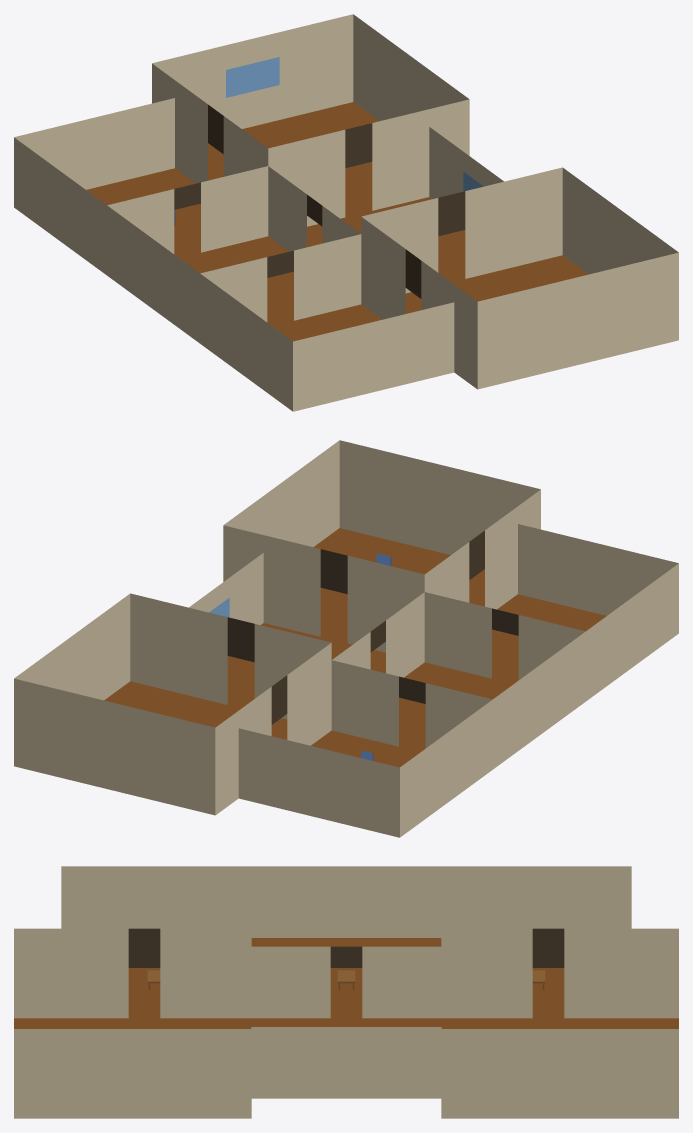
Rendered from level.obj.
The picture shows the model from 3 angles, top to bottom: view 1: azimuth 30°, elevation 25°; view 2: azimuth 150°, elevation 25°; view 3: azimuth 270°, elevation 25°; orthographic projection. The views are drawn at different scales.
Parts seen in each view (by area): view 1: Room5, Room1, Room0, Room4, Room2, Room3; view 2: Room1, Room5, Room0, Room2, Room4, Room3; view 3: Room1, Room5, Room2, Room4, Room0, Room3.
Boxes of the visible parts, x1=… form: Room5: x1=361, y1=167, x2=678, y2=389; Room1: x1=152, y1=14, x2=469, y2=226; Room0: x1=14, y1=98, x2=268, y2=275; Room4: x1=200, y1=234, x2=454, y2=411; Room2: x1=107, y1=166, x2=361, y2=343; Room3: x1=269, y1=127, x2=503, y2=293; Room1: x1=14, y1=593, x2=331, y2=815; Room5: x1=223, y1=440, x2=540, y2=652; Room0: x1=238, y1=660, x2=492, y2=837; Room2: x1=332, y1=592, x2=585, y2=769; Room4: x1=425, y1=524, x2=678, y2=701; Room3: x1=189, y1=553, x2=424, y2=718; Room1: x1=441, y1=928, x2=678, y2=1118; Room5: x1=14, y1=928, x2=251, y2=1118; Room2: x1=251, y1=866, x2=441, y2=1018; Room4: x1=61, y1=866, x2=251, y2=1018; Room0: x1=441, y1=866, x2=631, y2=1018; Room3: x1=251, y1=1018, x2=441, y2=1098.
Bounding box in the file's own units: 135 × 35.62 × 210.
